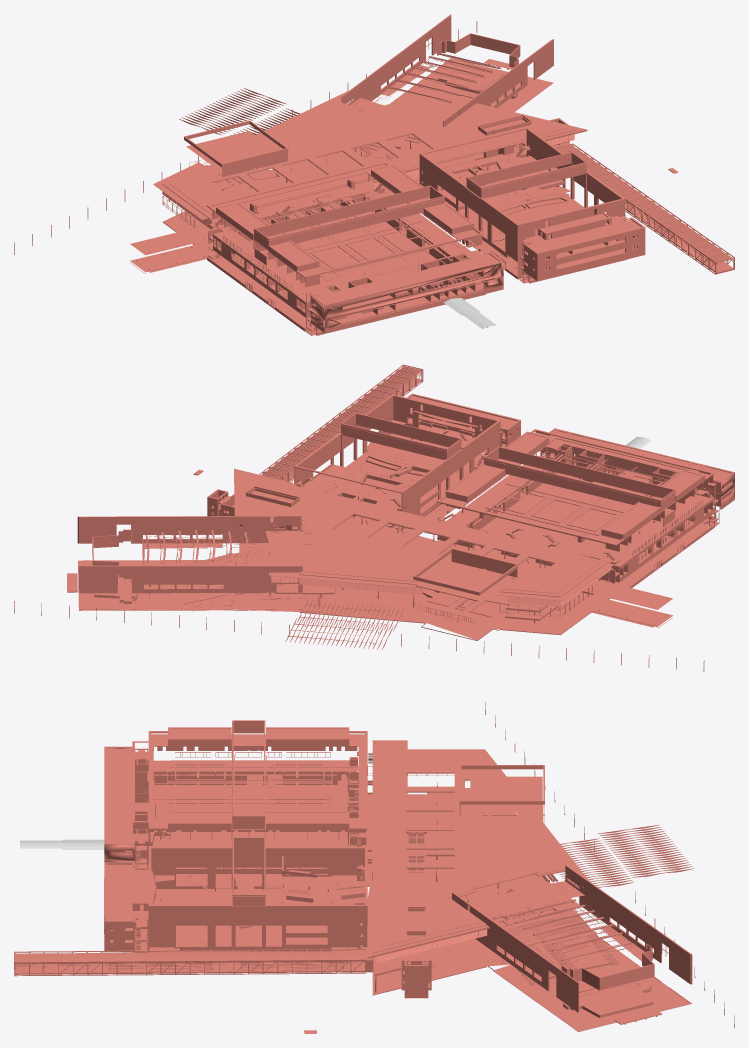
The picture shows the model from 3 angles, top to bottom: view 1: azimuth 30°, elevation 25°; view 2: azimuth 150°, elevation 25°; view 3: azimuth 270°, elevation 25°; orthographic projection. The views are drawn at different scales.
Parts seen in each view (by area): view 1: COLLIDER_dach_foyer_inner_grass, COLLIDER_Boden_14_NEW, COLLIDER_FOYER_DACH_BLECH, COLLIDER_Langer_Gang_Innen_002, COLLIDER_fb_foyer, COLLIDER_fassade007_002, COLLIDER_dach_b1_111, COLLIDER_halle14_technik_boden_2OG, COLLIDER_Dach_icm, COLLIDER_fassade011, COLLIDER_obj_1_OG_Boden_002, COLLIDER_carpet_2og_conference (+52 smaller); view 2: COLLIDER_dach_foyer_inner_grass, COLLIDER_fb_foyer, COLLIDER_Boden_14_NEW, COLLIDER_FOYER_DACH_BLECH, COLLIDER_obj_1_OG_Boden_002, COLLIDER_Langer_Gang_Innen_002, COLLIDER_bt3_suedwest, COLLIDER_bt3_nordostfassade_002, COLLIDER_bt3_suedwest_007, COLLIDER_halle14_technik_boden_2OG, COLLIDER_BD_Holz, COLLIDER_Dach_icm (+51 smaller); view 3: COLLIDER_dach_foyer_inner_grass, COLLIDER_Boden_14_NEW, COLLIDER_fb_foyer, COLLIDER_Langer_Gang_Innen_002, COLLIDER_FOYER_DACH_BLECH, COLLIDER_fassade_1_002, COLLIDER_dach_b1_111, COLLIDER_floor_bt2_2_1og, COLLIDER_BD_Holz, COLLIDER_Dach_icm, COLLIDER_fassade_3_003, COLLIDER_Langer_Gang_Innen_001 (+50 smaller).
Boxes of the visible parts, x1,y1,x2,y2 form: COLLIDER_dach_foyer_inner_grass: (169,102,566,215); COLLIDER_Boden_14_NEW: (249,211,436,289); COLLIDER_FOYER_DACH_BLECH: (162,100,578,219); COLLIDER_Langer_Gang_Innen_002: (553,142,733,263); COLLIDER_fb_foyer: (163,147,557,264); COLLIDER_fassade007_002: (324,263,501,320); COLLIDER_dach_b1_111: (315,254,499,304); COLLIDER_halle14_technik_boden_2OG: (227,191,470,304); COLLIDER_Dach_icm: (186,131,275,170); COLLIDER_fassade011: (258,188,429,236); COLLIDER_obj_1_OG_Boden_002: (196,145,555,237); COLLIDER_carpet_2og_conference: (213,231,393,309); COLLIDER_dach_foyer_inner_grass: (244,475,601,593); COLLIDER_fb_foyer: (230,543,610,640); COLLIDER_Boden_14_NEW: (480,472,680,562); COLLIDER_FOYER_DACH_BLECH: (238,471,608,597); COLLIDER_obj_1_OG_Boden_002: (333,517,607,594); COLLIDER_Langer_Gang_Innen_002: (261,366,420,478); COLLIDER_bt3_suedwest: (78,573,299,584); COLLIDER_bt3_nordostfassade_002: (77,523,301,535); COLLIDER_bt3_suedwest_007: (78,565,302,573); COLLIDER_halle14_technik_boden_2OG: (446,459,712,561); COLLIDER_BD_Holz: (130,560,232,610); COLLIDER_Dach_icm: (415,561,511,601); COLLIDER_dach_foyer_inner_grass: (375,754,564,947); COLLIDER_Boden_14_NEW: (151,785,354,845); COLLIDER_fb_foyer: (347,792,604,995); COLLIDER_Langer_Gang_Innen_002: (14,951,373,961); COLLIDER_FOYER_DACH_BLECH: (372,752,569,953); COLLIDER_fassade_1_002: (148,905,367,917); COLLIDER_dach_b1_111: (106,748,132,843); COLLIDER_floor_bt2_2_1og: (154,889,364,948); COLLIDER_BD_Holz: (493,942,660,1010); COLLIDER_Dach_icm: (470,776,542,811); COLLIDER_fassade_3_003: (151,848,364,859); COLLIDER_Langer_Gang_Innen_001: (14,957,373,974).
Bounding box in the file's own units: 217 × 23.54 × 208.
